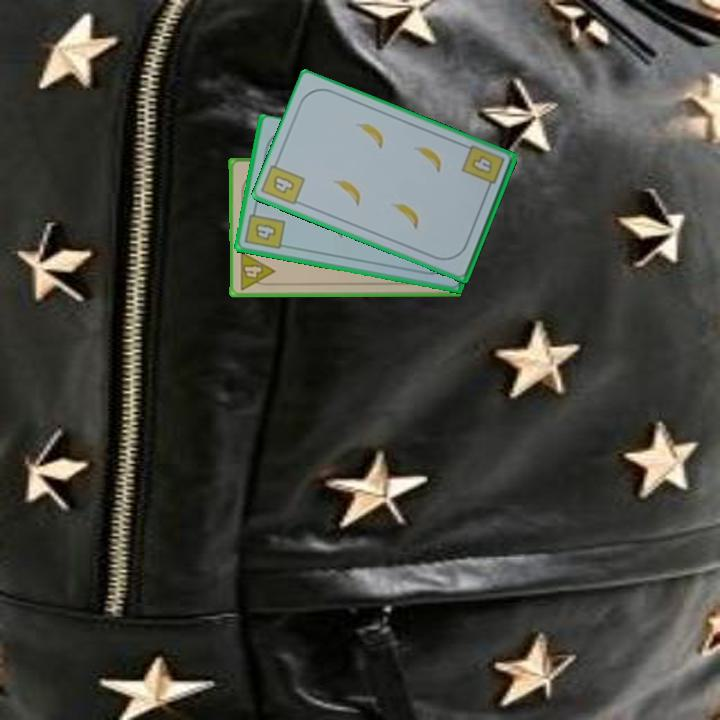4b: (459, 141, 507, 195), (242, 204, 288, 253), (269, 172, 297, 197)
4p: (236, 248, 277, 292)
